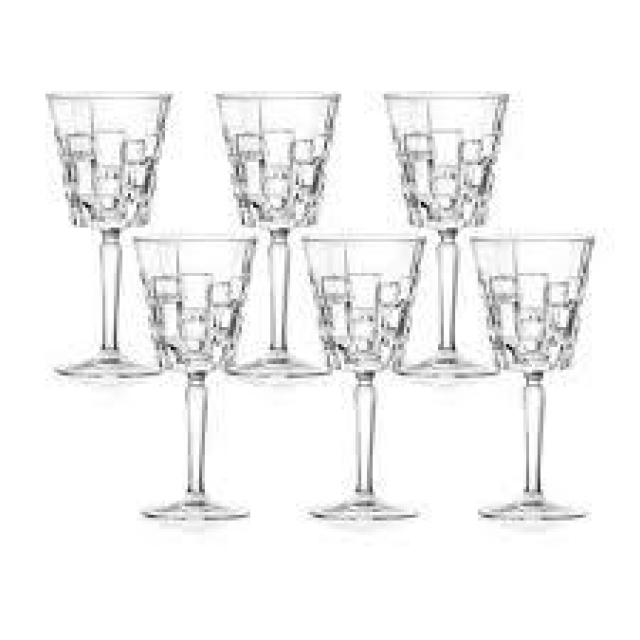non-organic waste: (288, 230, 436, 529)
